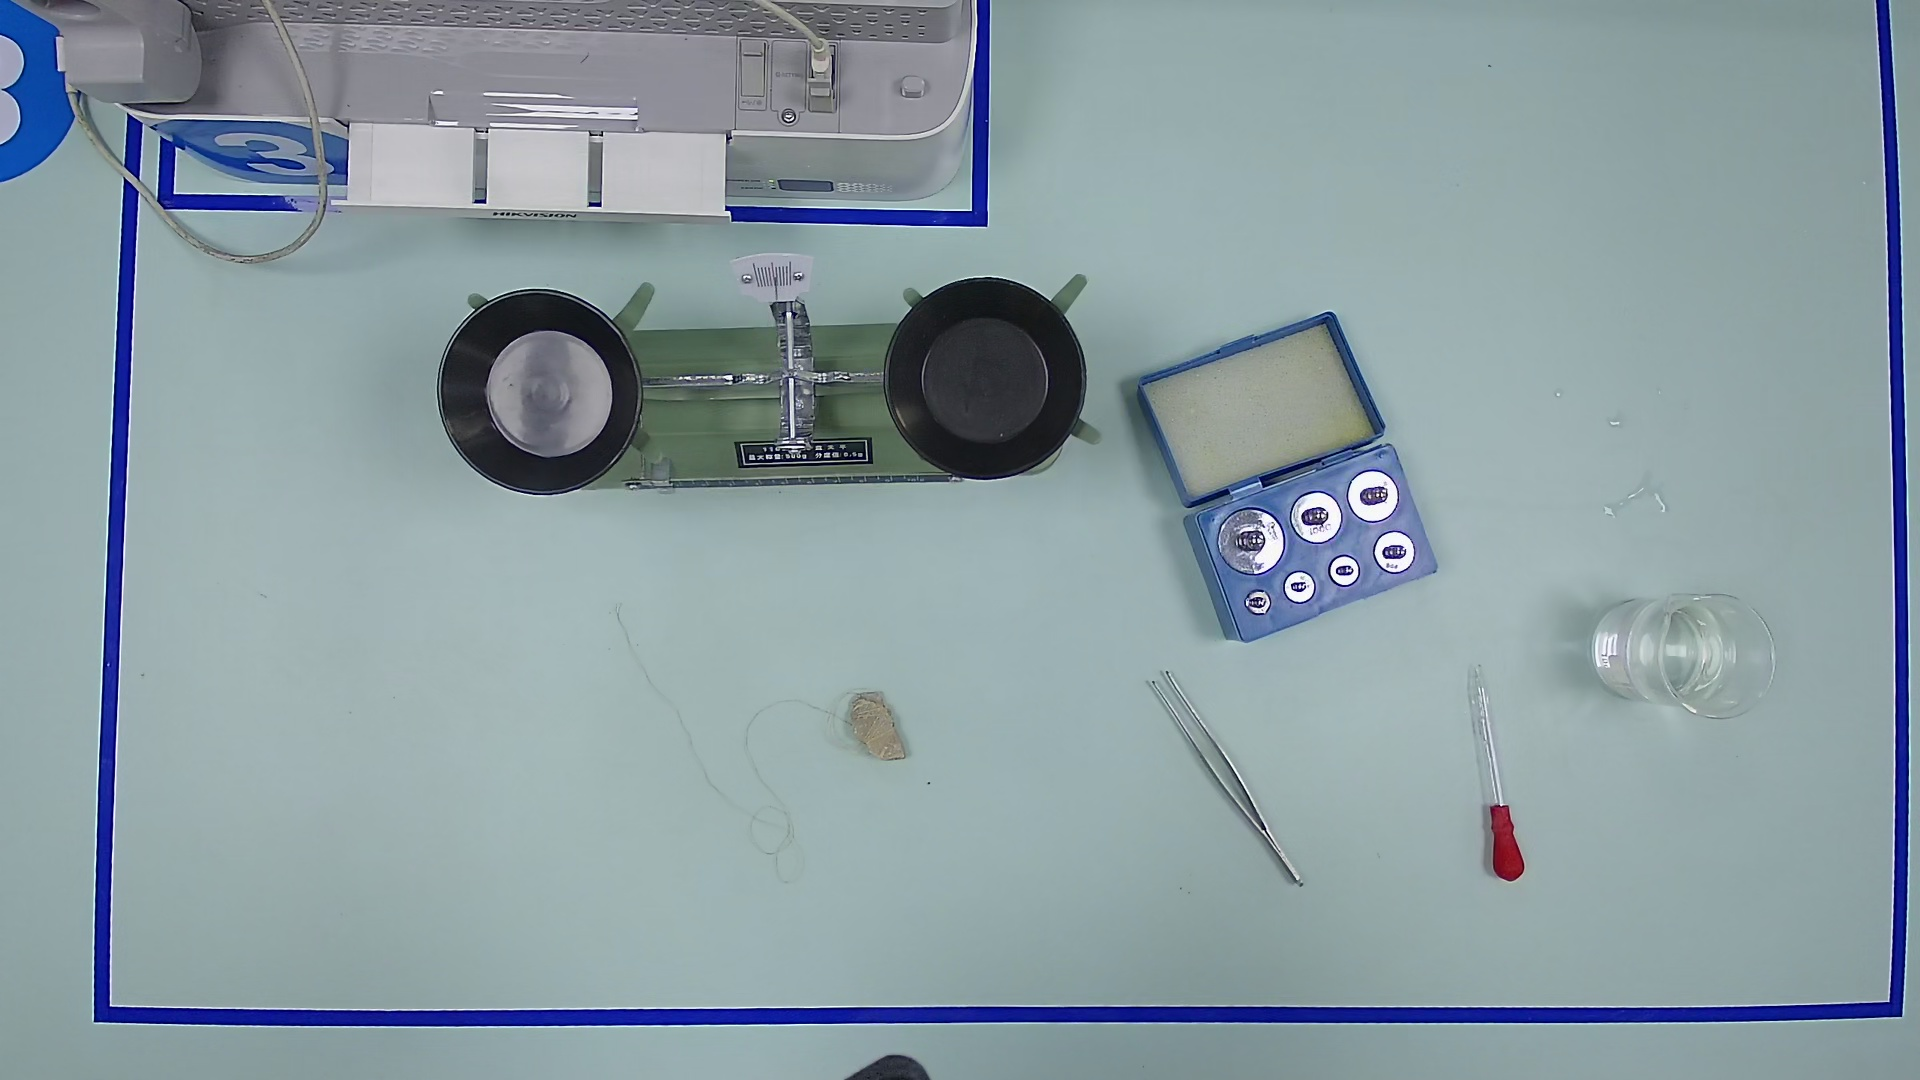bei: (1593, 575, 1775, 729)
diguan: (1437, 649, 1542, 893)
diguantou: (1476, 795, 1536, 887)
fama: (1217, 506, 1286, 576), (1346, 468, 1400, 524), (1290, 491, 1342, 545), (1371, 530, 1418, 575), (1282, 571, 1317, 607), (1327, 553, 1361, 588), (1244, 589, 1271, 618)
gan: (618, 444, 955, 518)
he: (1160, 425, 1468, 671)
niezi: (1135, 663, 1323, 903)
pointer: (733, 248, 814, 301)
shi: (833, 682, 924, 773)
tuo: (861, 251, 1112, 508), (419, 272, 665, 516)
you: (645, 452, 680, 501)
